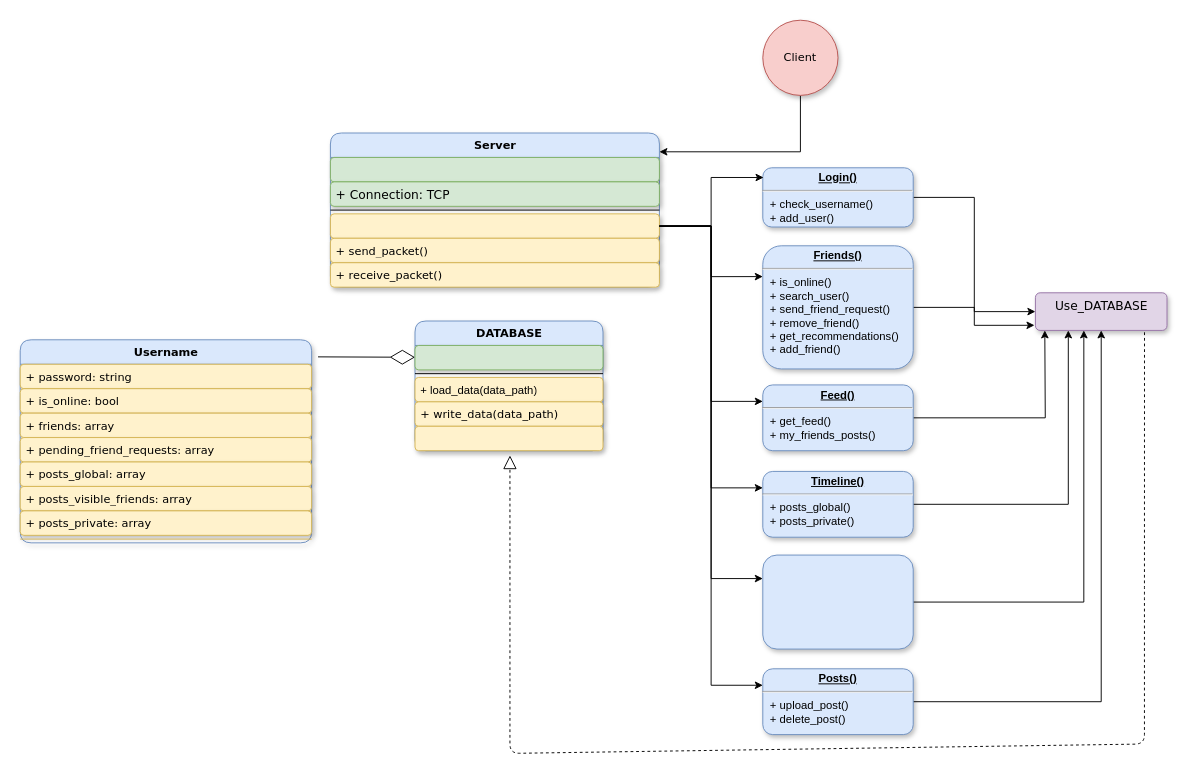
Image size: 1189x783. Some labels were removed from this diagram. The shapes that lost their labels are listed below. From the top down, each one's centre as x and y in pixels, then its label:
the point at 495,170: + Server details: IP, Port
the point at 495,227: + start_new_client_thread(socket_client, address)
the point at 509,358: + User: dict
the point at 509,439: + add_user()
the point at 838,603: Messages() + select_friend() + refresh() + see_messages() + send_message()
